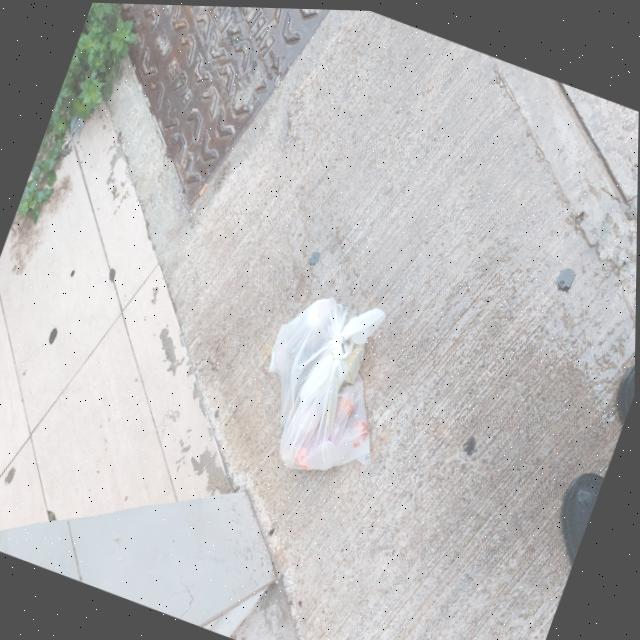Organic Waste -White Bag-: (227, 262, 437, 506)
